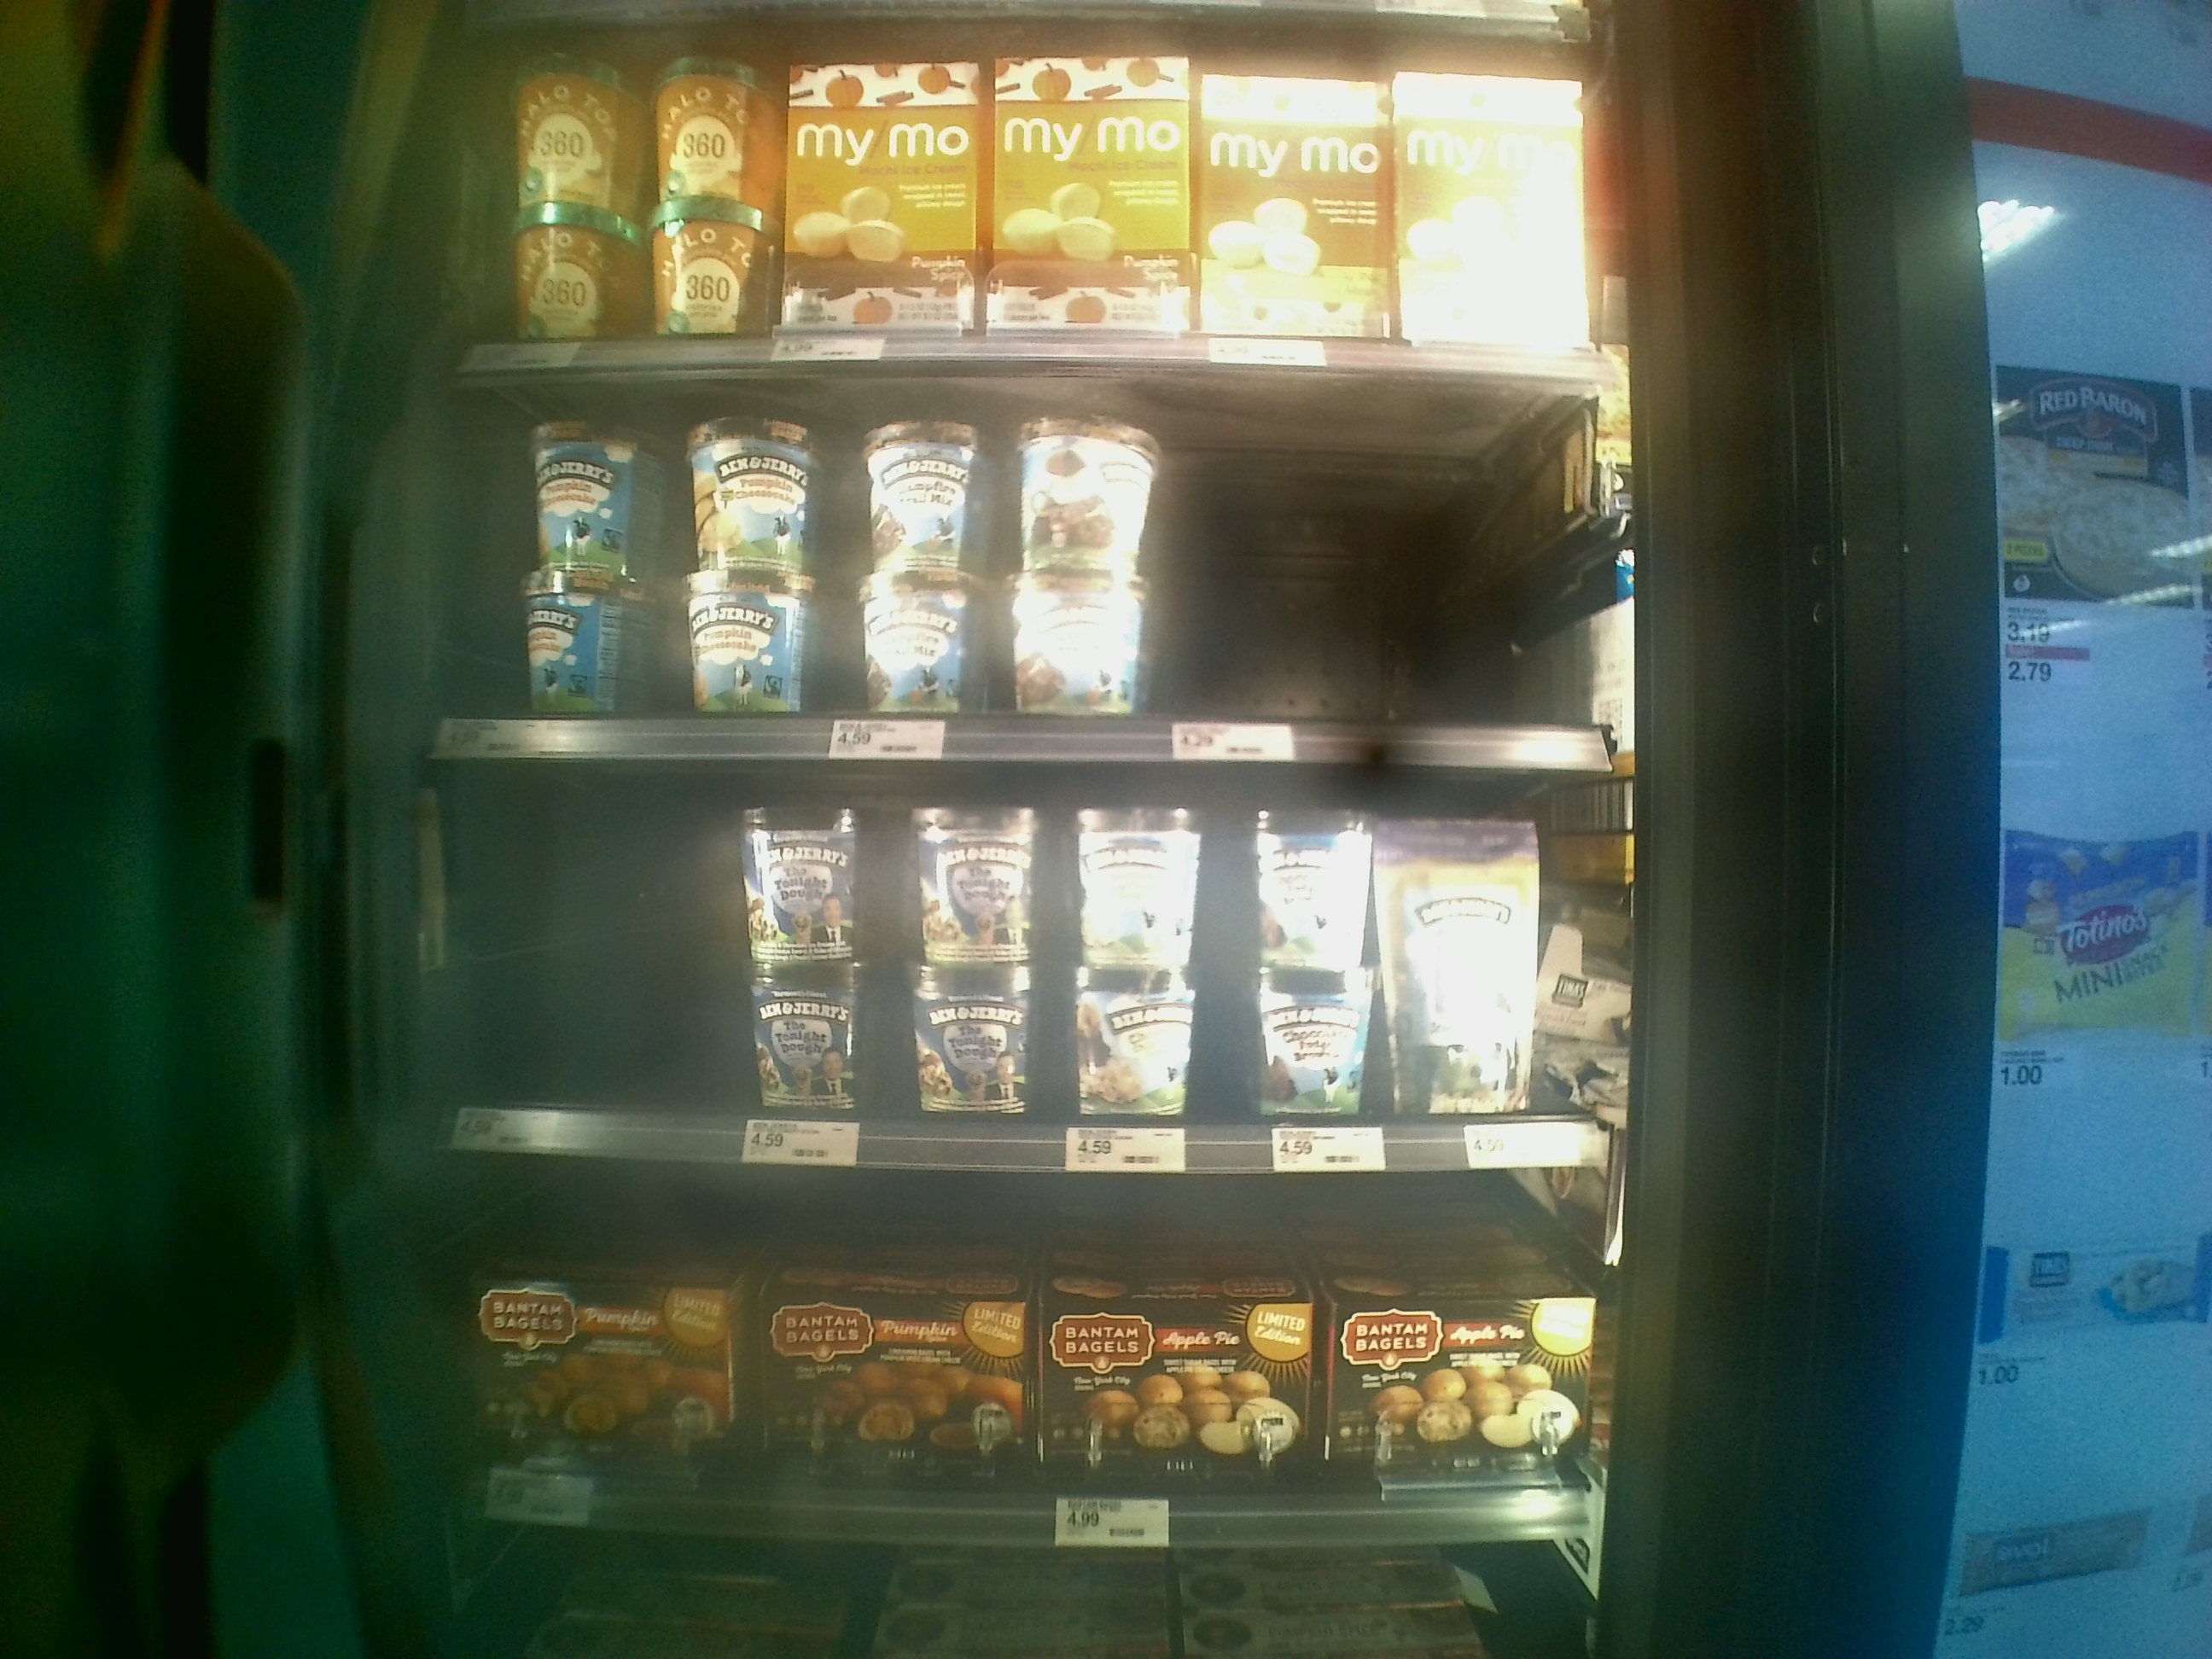shelf: (402, 359, 1646, 779), (366, 1129, 1608, 1546), (392, 758, 1620, 1176)
